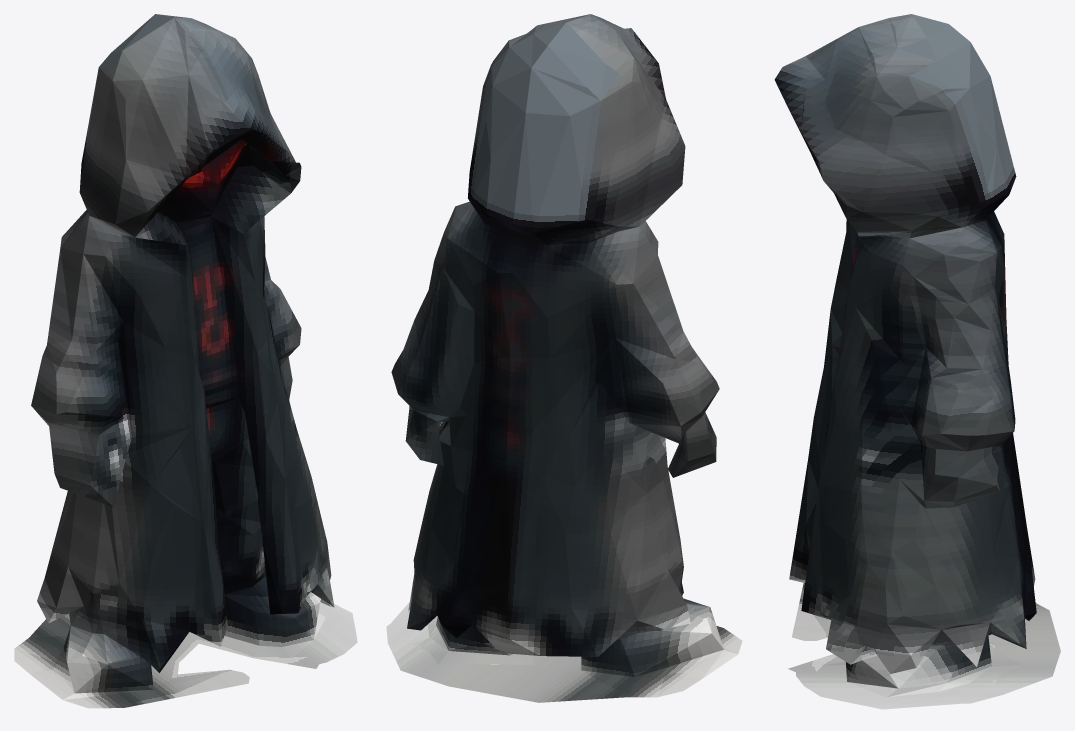
The model's file is hacker.glb.
3 renders of one model, left to right at view 1: azimuth 30°, elevation 25°; view 2: azimuth 150°, elevation 25°; view 3: azimuth 270°, elevation 25°, orthographic.
Parts seen in each view (by area): view 1: geometry_0; view 2: geometry_0; view 3: geometry_0.
Boxes of the visible parts, x1,y1,x2,y2 form: geometry_0: [14, 14, 357, 708]; geometry_0: [386, 14, 742, 702]; geometry_0: [774, 14, 1060, 709].
Size of the model in its own units: 0.8883 by 1.75 by 0.7316.
Materials: 1 (1 with a texture image).
